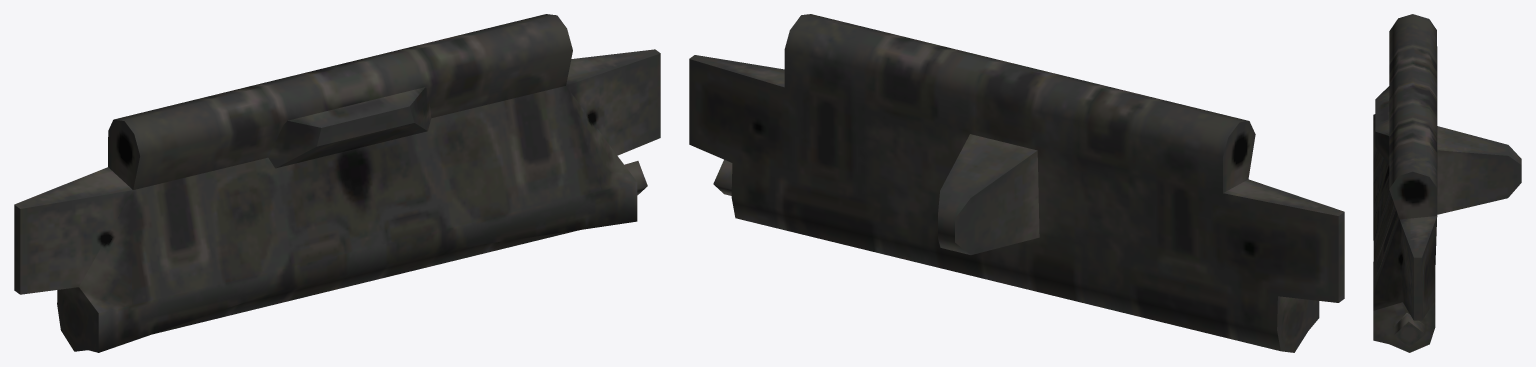
3 renders of one model, left to right at view 1: azimuth 30°, elevation 25°; view 2: azimuth 150°, elevation 25°; view 3: azimuth 270°, elevation 25°, orthographic. The views are drawn at different scales.
Visible parts, largest first — view 1: set_0_group_0; view 2: set_0_group_0; view 3: set_0_group_0.
Part boxes in pixels (x1=…): set_0_group_0: x1=14, y1=14, x2=660, y2=352; set_0_group_0: x1=689, y1=14, x2=1344, y2=352; set_0_group_0: x1=1373, y1=14, x2=1521, y2=352.
Size of the model in its own units: 0.7217 by 0.233 by 0.1938.
1 material, 1 textured.
